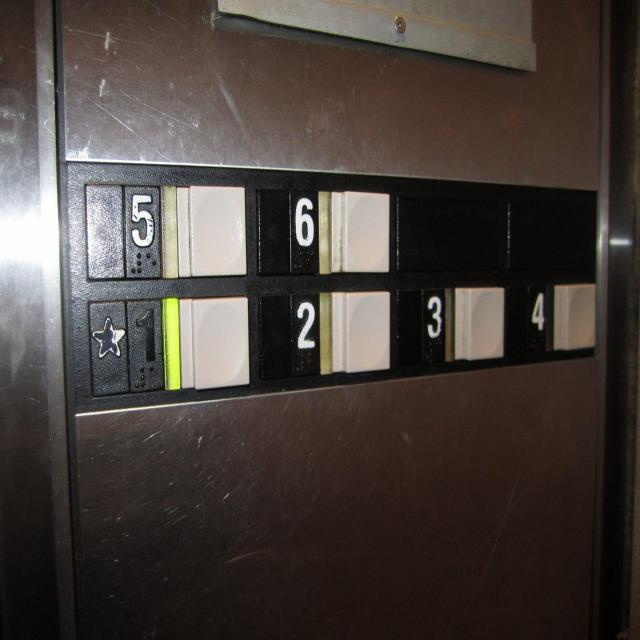2: (255, 290, 322, 385)
3: (393, 286, 448, 366)
4: (507, 281, 548, 359)
5: (80, 181, 166, 283)
6: (254, 182, 322, 278)
empty: (169, 178, 249, 281), (174, 295, 252, 393), (329, 186, 392, 276), (328, 289, 393, 376), (453, 284, 506, 364), (552, 282, 598, 353)
s1: (84, 294, 170, 397)
